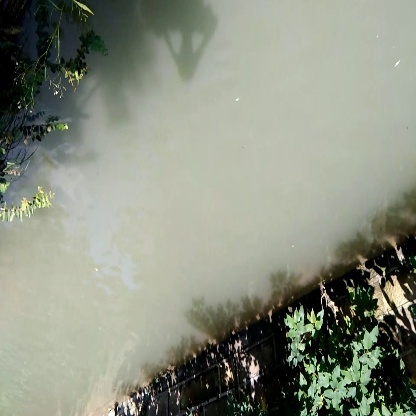grass: (21, 13, 108, 94)
